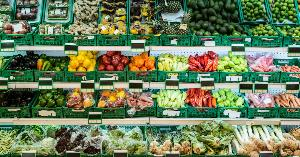apple: (2, 23, 36, 42), (14, 1, 42, 23)
avocado: (188, 0, 242, 22), (190, 23, 246, 39)
bell_pepper: (180, 48, 220, 76), (216, 81, 244, 113), (186, 86, 218, 112), (95, 84, 124, 111), (156, 86, 186, 112), (66, 86, 96, 112), (32, 88, 64, 112), (128, 50, 158, 74), (158, 50, 188, 74), (68, 50, 100, 72), (99, 50, 130, 72), (38, 52, 68, 74), (222, 50, 248, 72)
carrot: (126, 86, 154, 114), (245, 92, 276, 111), (248, 55, 274, 76), (276, 61, 300, 79), (276, 92, 300, 110)
eggplant: (0, 91, 36, 111), (10, 52, 40, 74)
kiwi: (42, 0, 72, 24), (38, 25, 66, 40)
lime: (270, 0, 300, 24), (242, 0, 270, 24), (247, 24, 283, 42), (278, 25, 300, 39)
pineapple: (157, 1, 184, 21), (157, 23, 190, 39)
